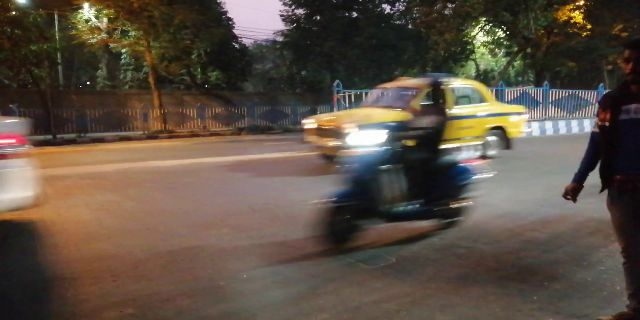Car: (293, 71, 533, 144)
Motorbike: (310, 88, 471, 246)
